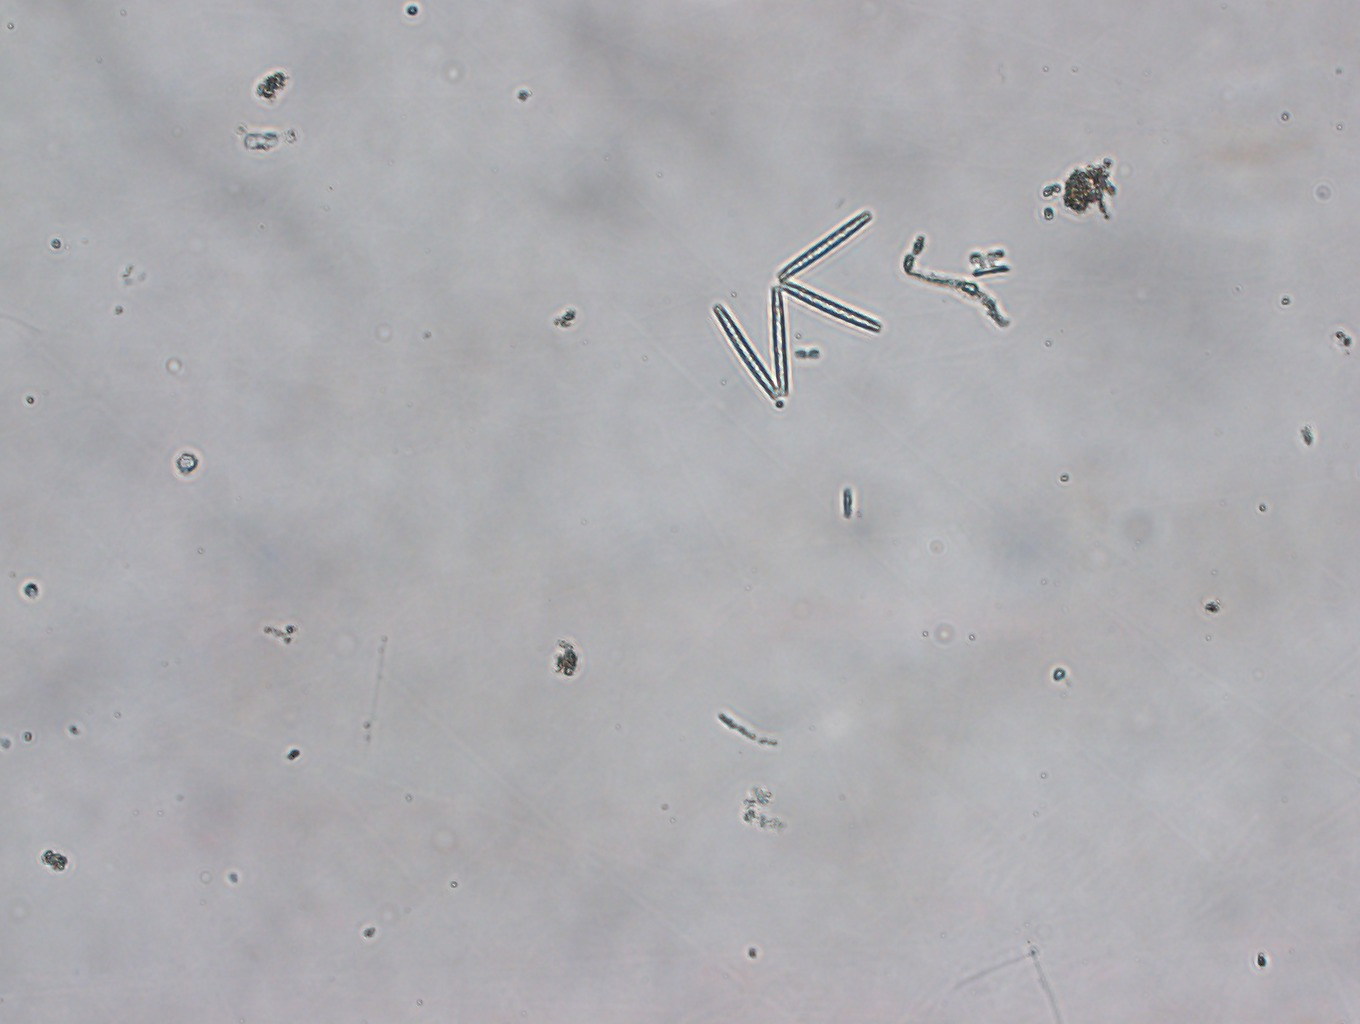thalassionema nitzschioides: (710, 207, 883, 401)
